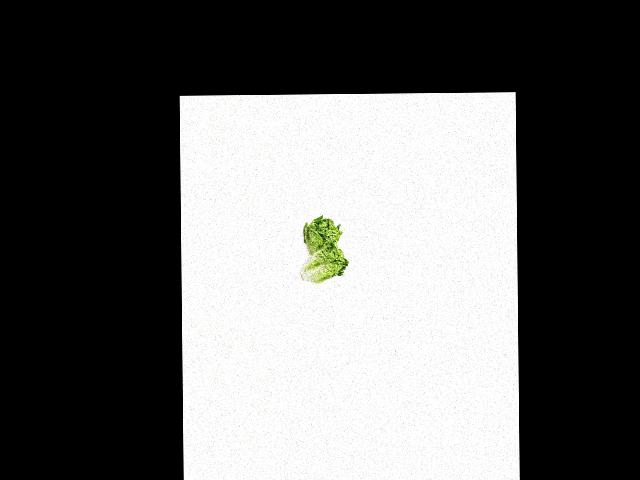lettuce: (297, 215, 343, 258)
